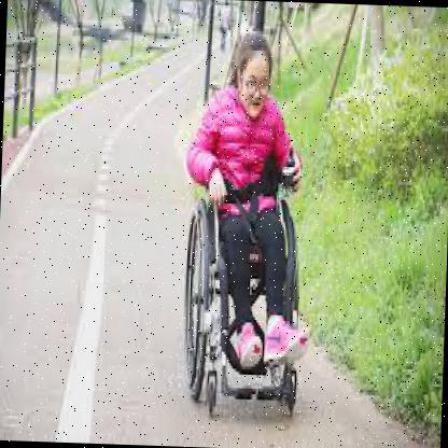wheel: (177, 27, 316, 423)
